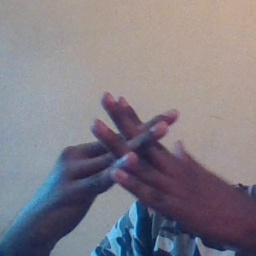W: (72, 86, 195, 213)
